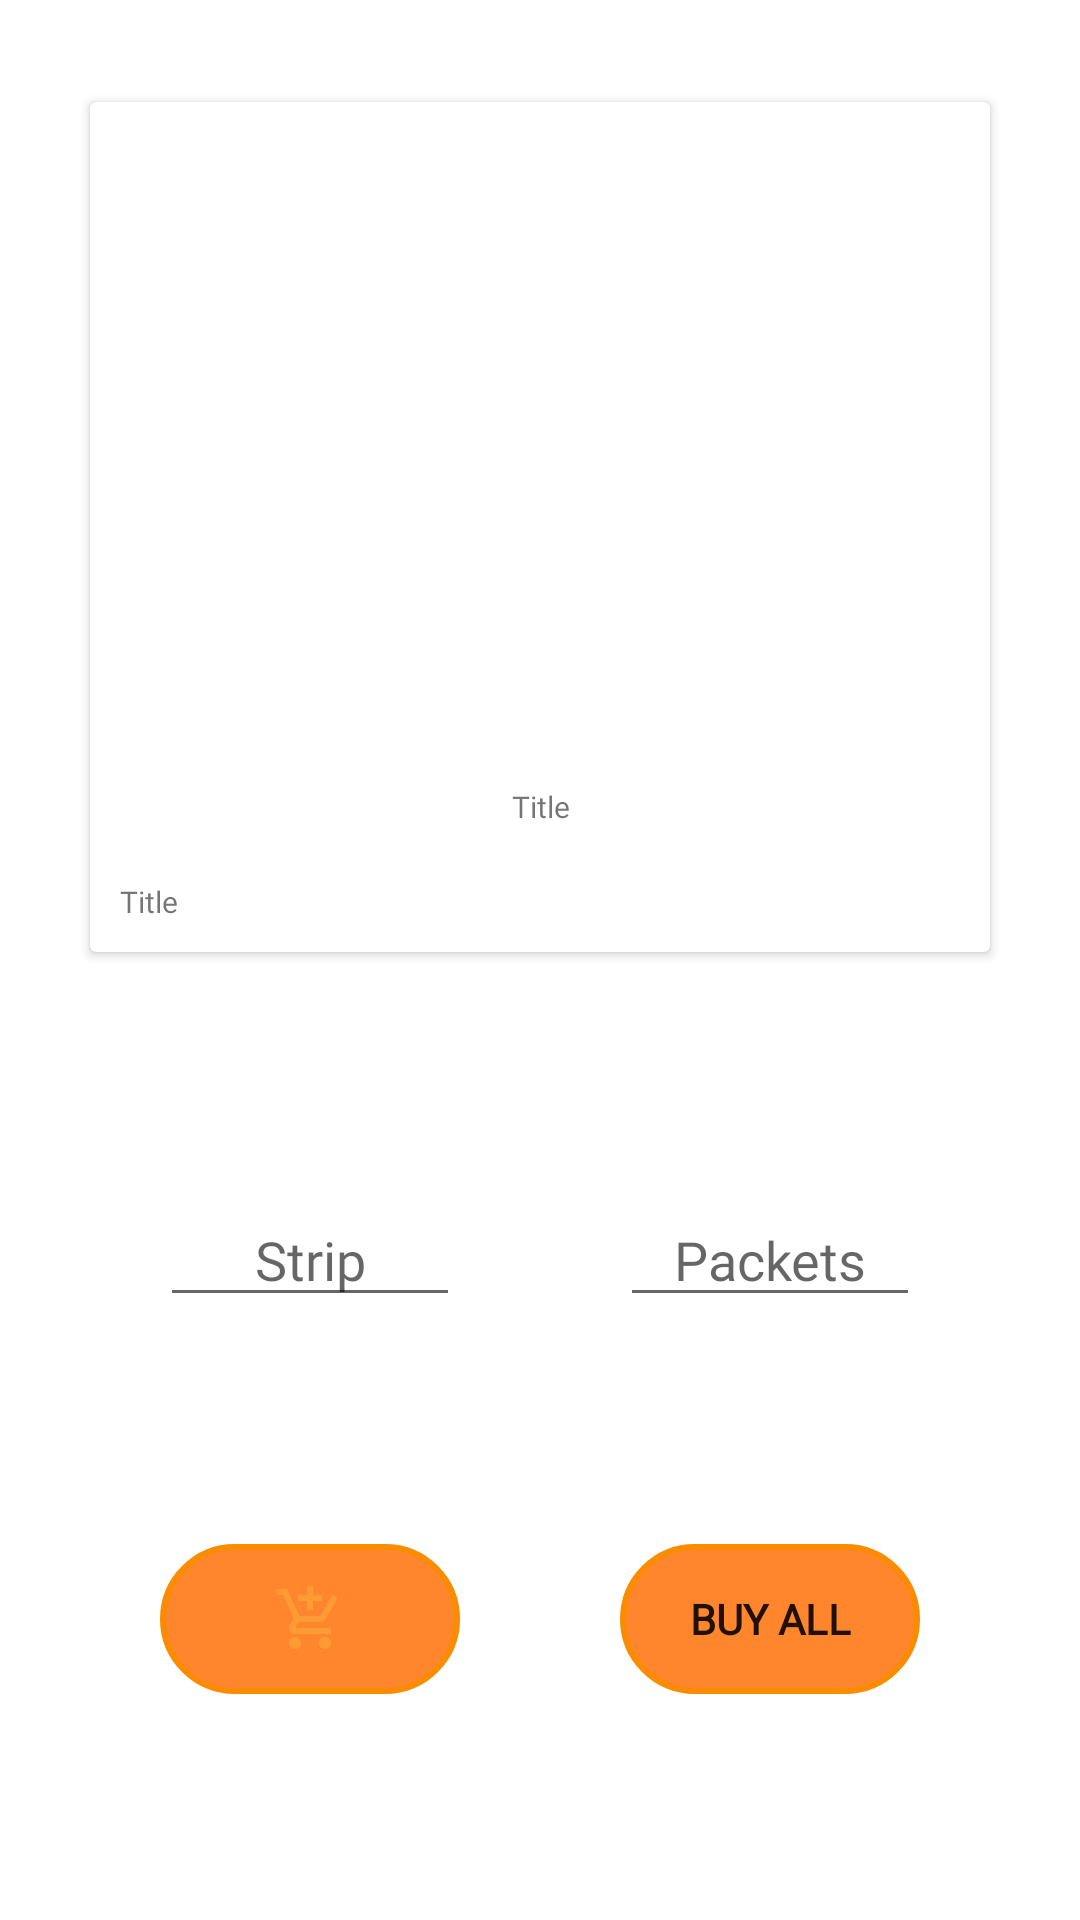

Locate icon controls on the screen. Image size 1080x1920, boxes as (x1, y1, x2, y2).
add shopping cart: (160, 1544, 460, 1694)
